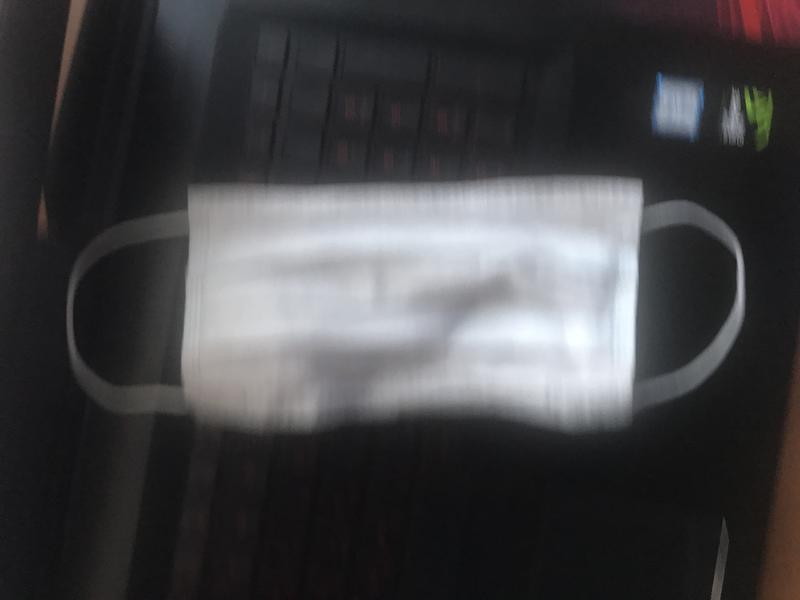medical_mask: (68, 176, 746, 430)
